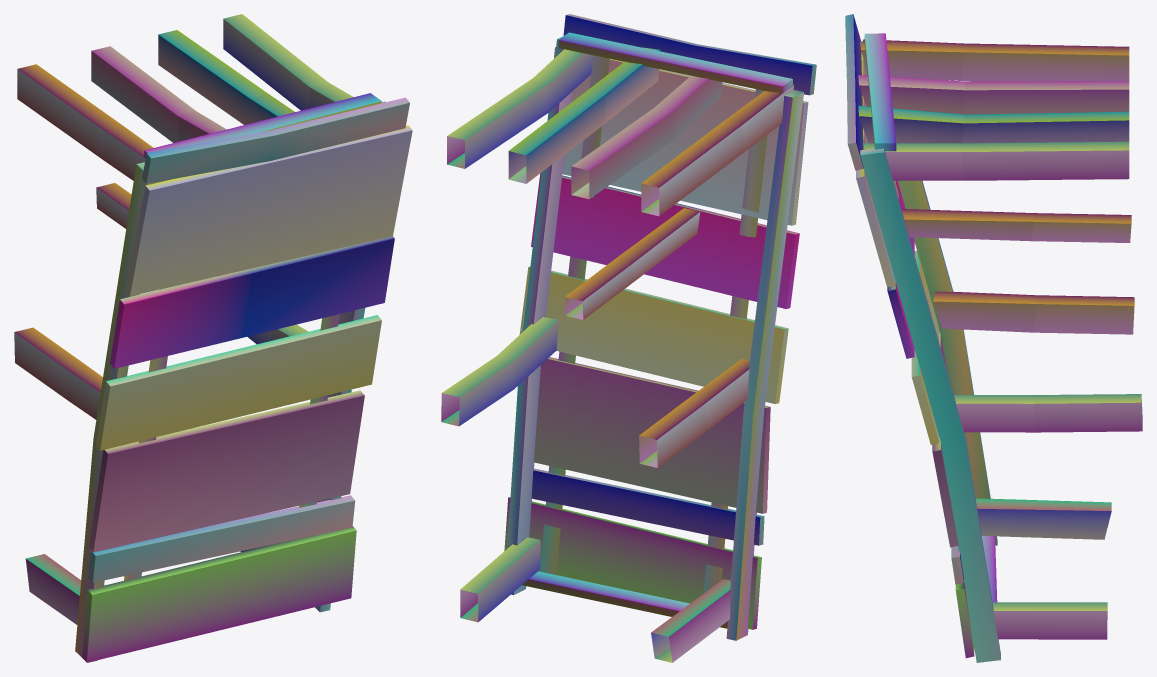
The model's file is RampA.glb.
3 renders of one model, left to right at view 1: azimuth 30°, elevation 25°; view 2: azimuth 150°, elevation 25°; view 3: azimuth 270°, elevation 25°, orthographic. The views are drawn at different scales.
Parts seen in each view (by area): view 1: MeshNode_0; view 2: MeshNode_0; view 3: MeshNode_0.
Boxes of the visible parts, left/top/right/bottom form: MeshNode_0: left=14, top=14, right=412, bottom=662; MeshNode_0: left=441, top=14, right=816, bottom=662; MeshNode_0: left=845, top=14, right=1142, bottom=662.
Bounding box in the file's own units: 13.18 × 26.1 × 13.18.
